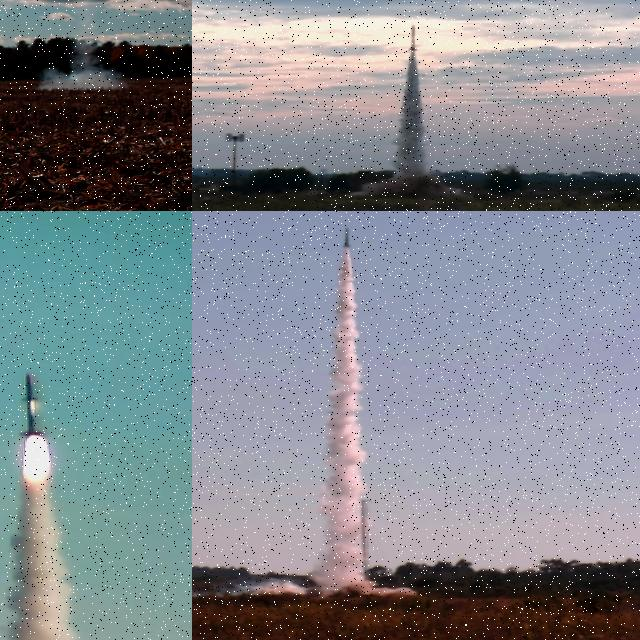Rocket: (20, 374, 44, 436), (342, 225, 352, 248), (408, 24, 416, 50)
